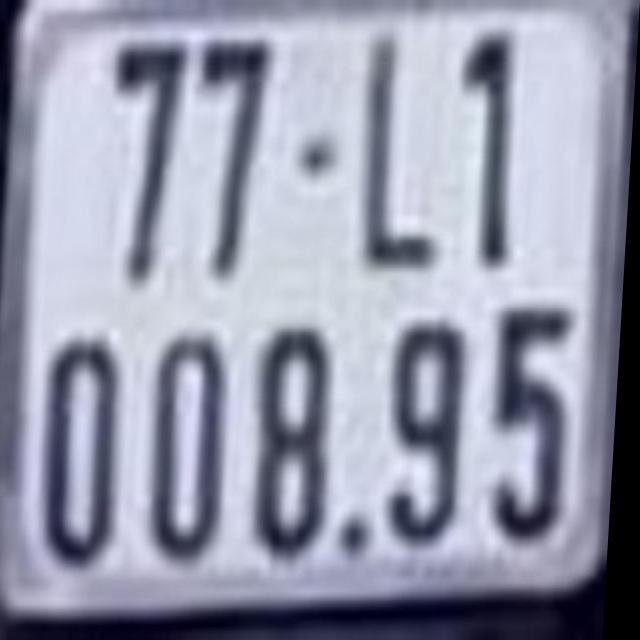0: (153, 334, 239, 568), (43, 339, 131, 567)
1: (452, 33, 522, 266)
5: (491, 304, 581, 542)
7: (102, 38, 190, 284), (189, 37, 265, 286)
8: (252, 327, 343, 556)
9: (389, 320, 475, 548)
L: (358, 36, 455, 274)
